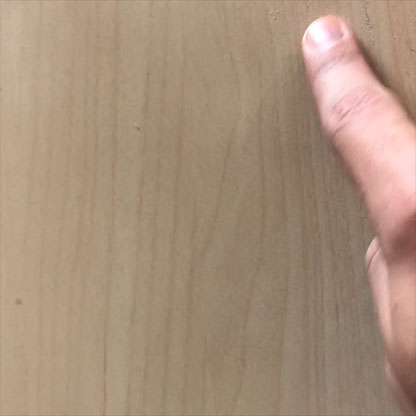fingertip: (295, 12, 368, 63)
